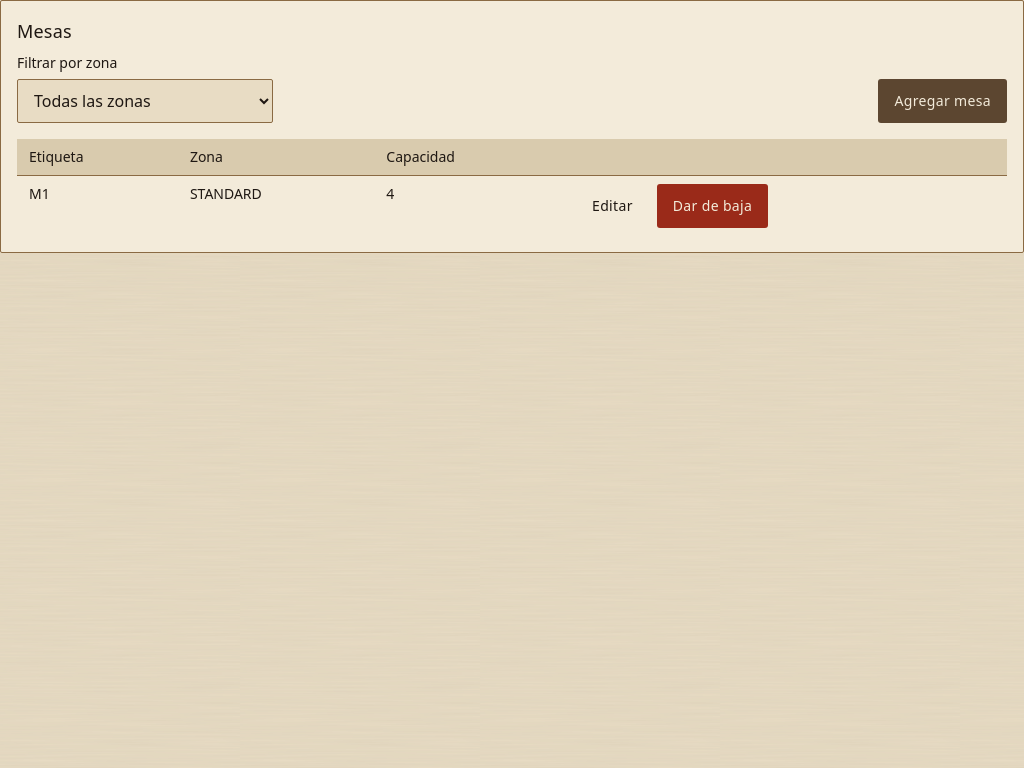
Test: MesasPanel › un 409 por etiqueta duplicada se muestra junto a la etiqueta
The width and height of the screenshot is (1024, 768).
Click the button "Agregar mesa" at point(943, 101), box x1=878 y1=79 x2=1007 y2=123
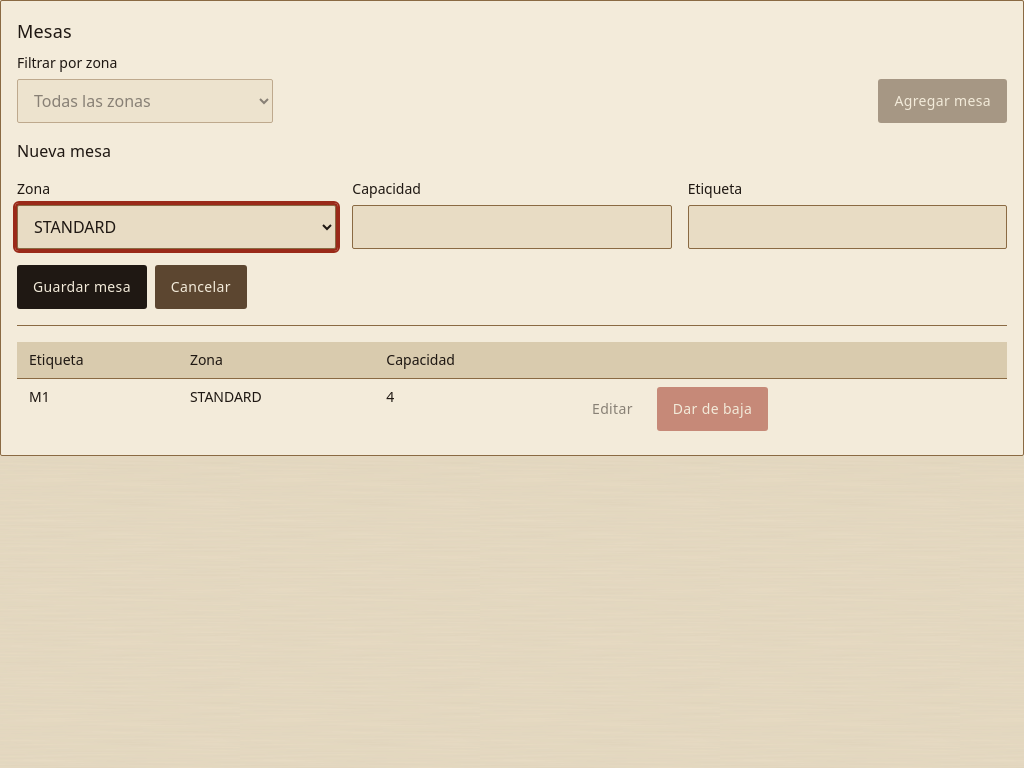
Select "VIP" in the dropdown labelled "Zona" at point(177, 227), box x1=17 y1=205 x2=336 y2=249
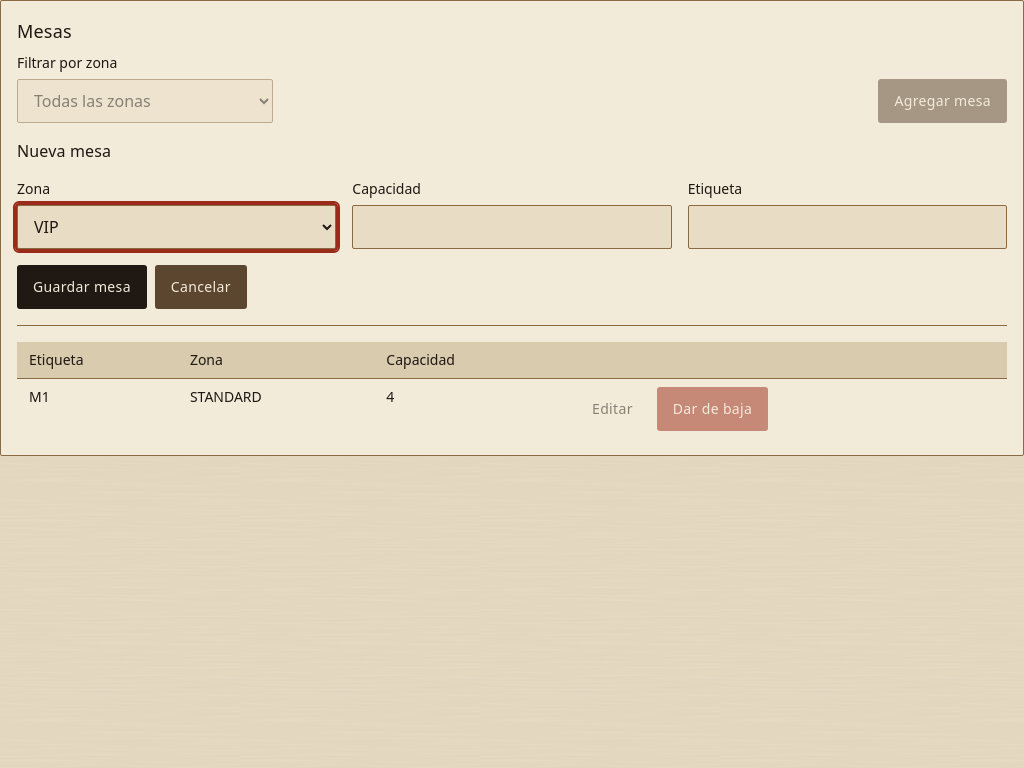
Type "6" into the number field labelled "Capacidad" at point(512, 227), box x1=352 y1=205 x2=672 y2=249
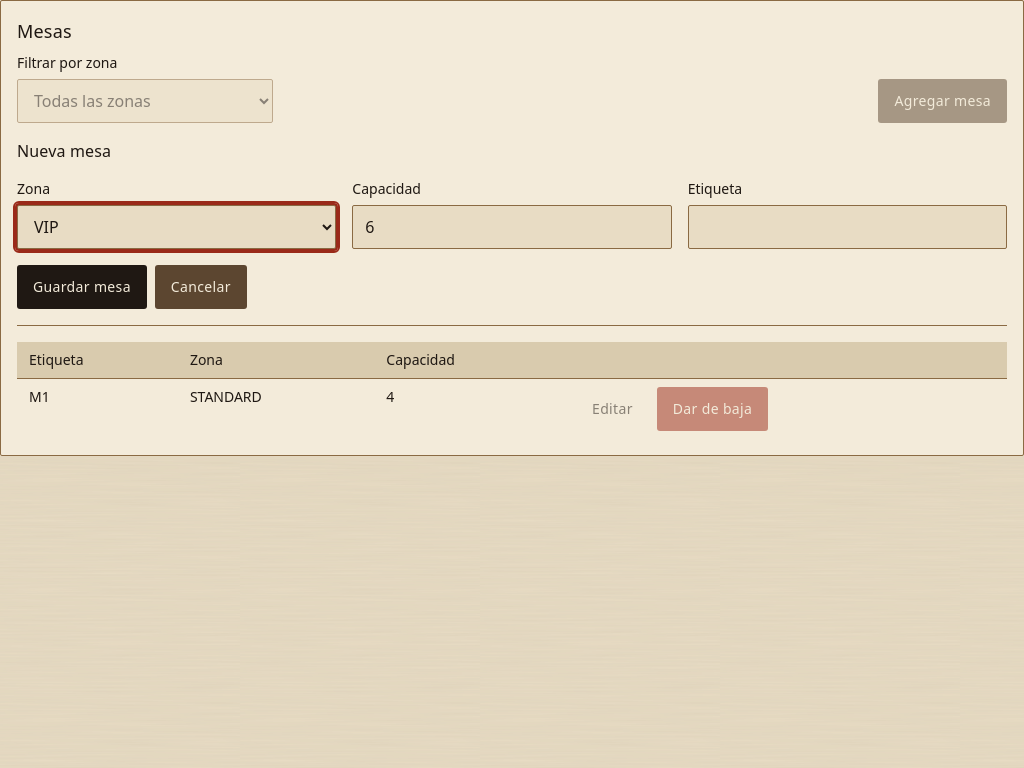
Type "M1" into the field labelled "Etiqueta" at point(847, 227), box x1=688 y1=205 x2=1007 y2=249
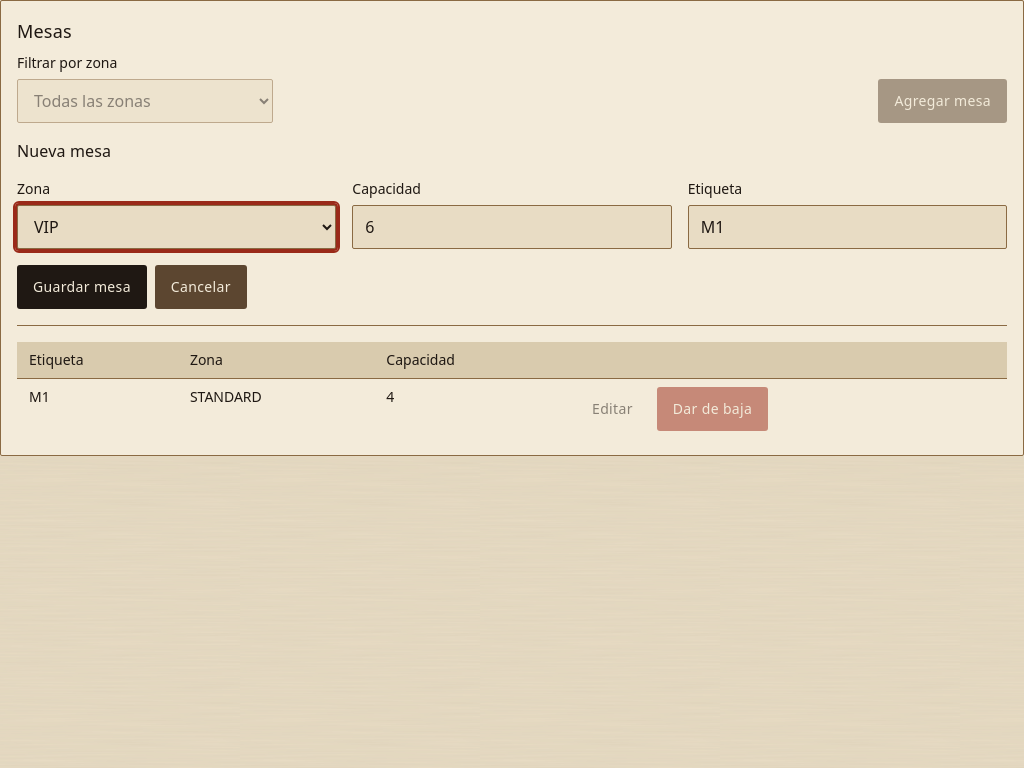
Click the button "Guardar mesa" at point(82, 287), box x1=17 y1=265 x2=147 y2=309
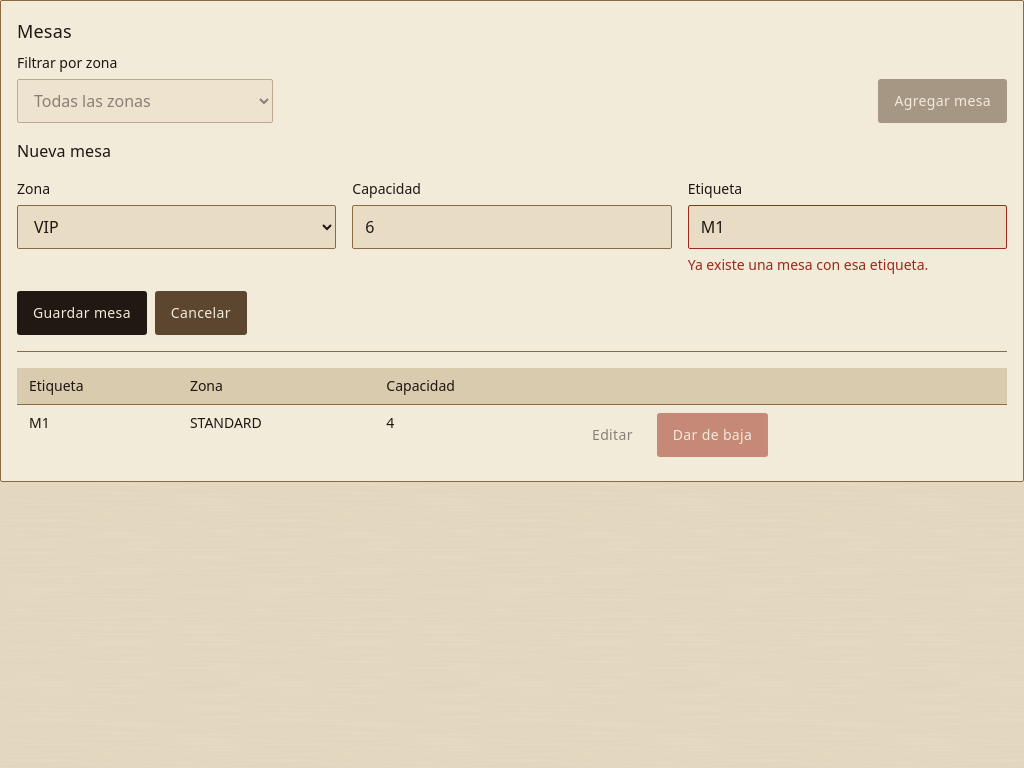
Now the text "Ya existe una mesa con esa etiqueta." is shown, box x1=688 y1=255 x2=928 y2=274
